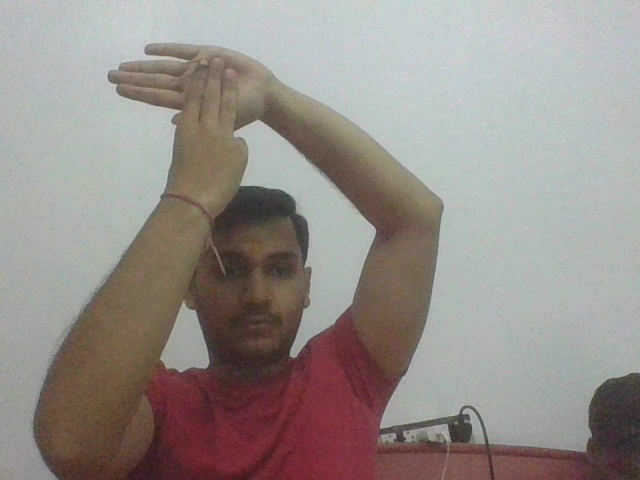M: (107, 41, 265, 181)
